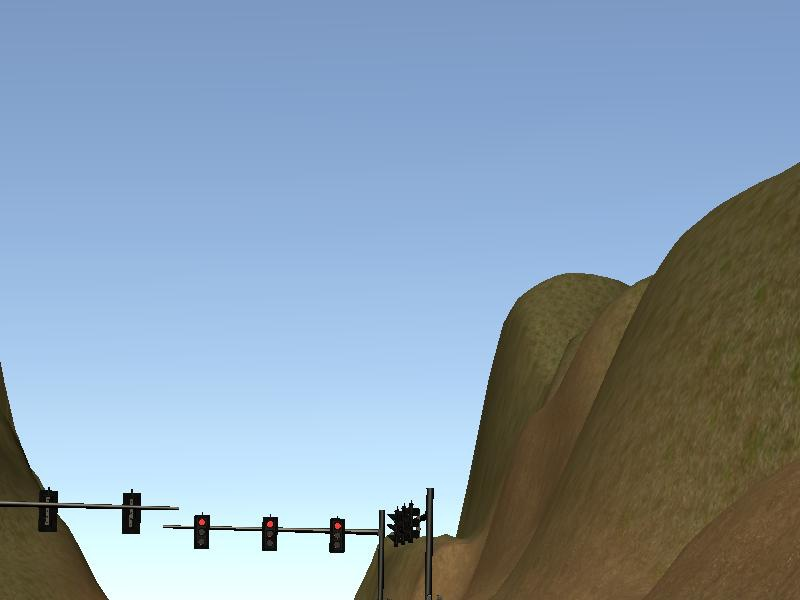Red: (259, 513, 281, 555), (326, 515, 348, 554), (191, 512, 212, 551)
